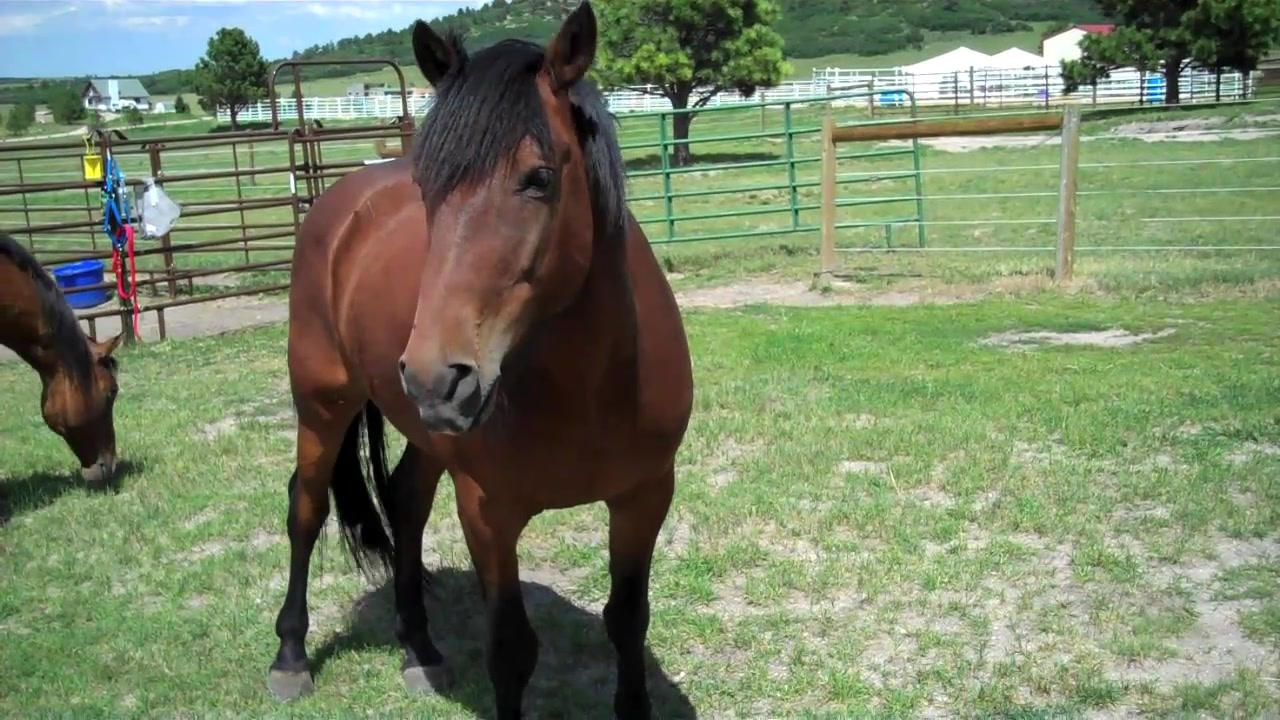horse: (268, 4, 695, 720), (1, 224, 127, 490)
